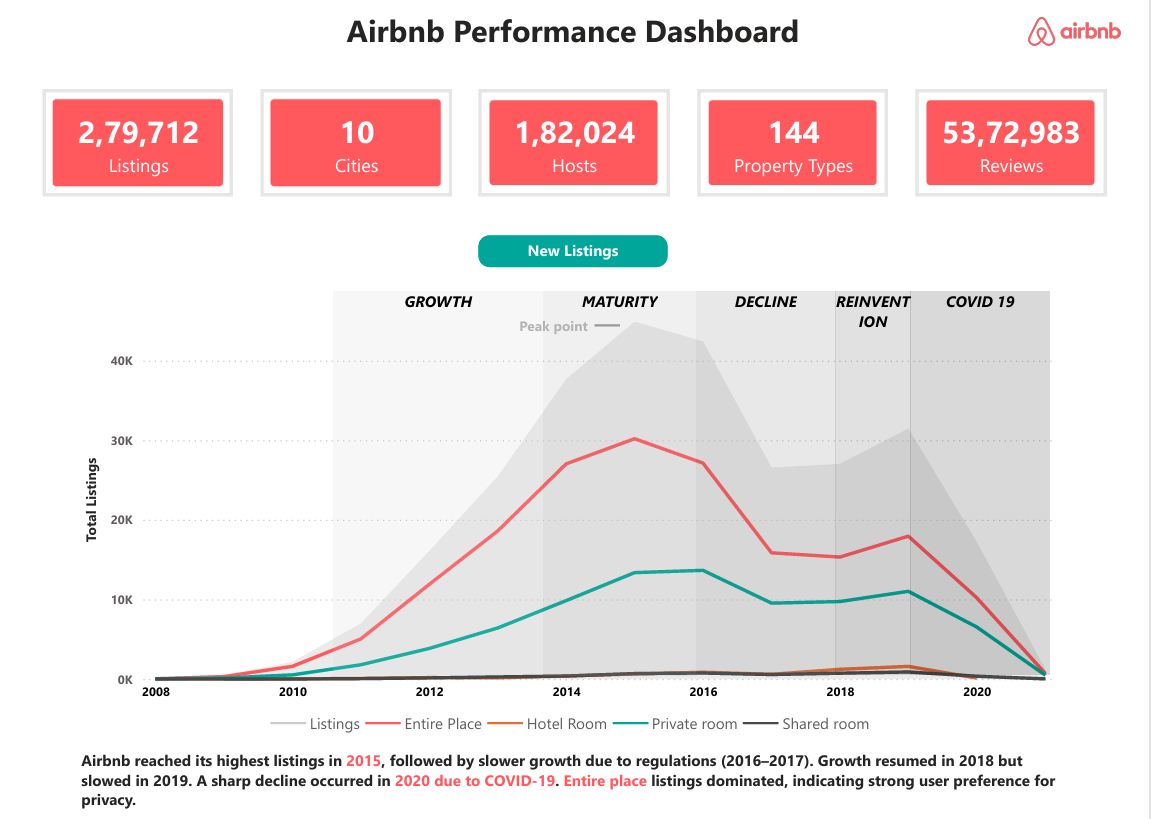

What the dashboard file says about the page in this screenshot:
{"tool":"powerbi","page":{"name":"Overview","canvas":[960,720],"ordinal":0},"visuals":[{"type":"textbox","box":[270.3,0,419.4,48.9],"z":0},{"type":"image","box":[879.2,0,80.7,48.9],"z":1000},{"type":"cardVisual","fields":{"Data":["CountNonNull(Listings.listing_id)"]},"box":[14.7,74.6,167.5,94.2],"z":2000},{"type":"cardVisual","fields":{"Data":["Count(Listings.property_type)"]},"box":[588.8,74.6,167.5,94.2],"z":3000},{"type":"cardVisual","fields":{"Data":["Count(Listings.city)"]},"box":[206,74.6,167.5,94.2],"z":4000},{"type":"cardVisual","fields":{"Data":["Count(Listings.host_id)"]},"box":[397.4,74.6,167.5,94.2],"z":5000},{"type":"cardVisual","fields":{"Data":["Count(Reviews.review_id)"]},"box":[780.2,74.6,167.5,94.2],"z":6000},{"type":"lineChart","fields":{"Category":["Listings.host_since.Variation.Date Hierarchy.Year"],"Y":["CountNonNull(Listings.listing_id)","Listings.Entire Place","Listings.Hotel Room","Listings.Private room","Listings.Shared room"]},"box":[47.7,264.1,864.5,385.2],"z":7000},{"type":"textbox","box":[397.5,203,165.1,28.1],"z":8000},{"type":"shape","box":[270.2,251.9,183.4,336.3],"z":10000},{"type":"shape","box":[776.5,251.9,121.1,336.3],"z":11000},{"type":"shape","box":[710.5,251.9,66,336.3],"z":12000},{"type":"shape","box":[588.2,251.9,122.3,336.3],"z":13000},{"type":"shape","box":[453.7,251.9,134.5,337.5],"z":14000},{"type":"shape","box":[498.9,272.7,22,18.3],"z":17000},{"type":"shape","box":[415.8,272.7,94.2,18.3],"z":18000},{"type":"textbox","box":[44.1,649.3,871.9,68.5],"z":20000}]}

Visuals, with their boxes on the page's 960x720 design canvas (x1, y1, x2, y2). These are canvas units, not pixel positions in the 1151x819 screenshot, which may show the page scaled, cropped or inside an application window:
textbox: box(270, 0, 690, 49)
image: box(879, 0, 960, 49)
cardVisual - CountNonNull(Listings.listing_id): box(15, 75, 182, 169)
cardVisual - Count(Listings.property_type): box(589, 75, 756, 169)
cardVisual - Count(Listings.city): box(206, 75, 374, 169)
cardVisual - Count(Listings.host_id): box(397, 75, 565, 169)
cardVisual - Count(Reviews.review_id): box(780, 75, 948, 169)
lineChart - Listings.host_since.Variation.Date Hierarchy.Year x CountNonNull(Listings.listing_id): box(48, 264, 912, 649)
textbox: box(398, 203, 563, 231)
shape: box(270, 252, 454, 588)
shape: box(776, 252, 898, 588)
shape: box(710, 252, 776, 588)
shape: box(588, 252, 710, 588)
shape: box(454, 252, 588, 589)
shape: box(499, 273, 521, 291)
shape: box(416, 273, 510, 291)
textbox: box(44, 649, 916, 718)
